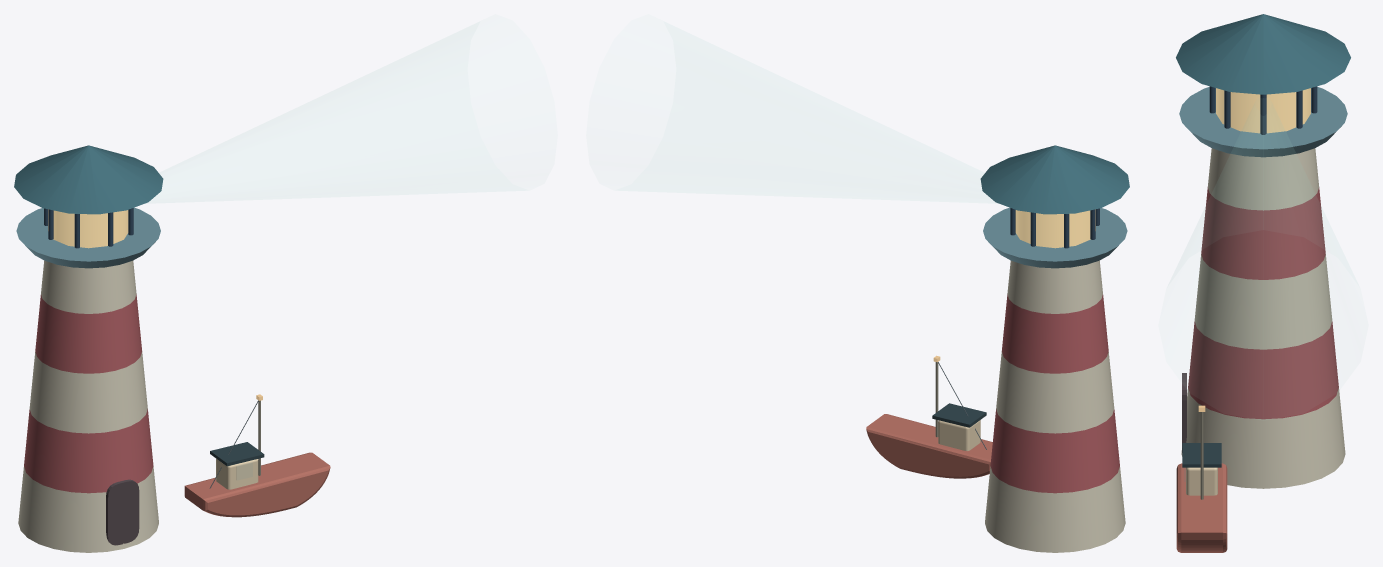
Rendered from harbour-map.glb.
The picture shows the model from 3 angles, left to right: view 1: azimuth 30°, elevation 25°; view 2: azimuth 150°, elevation 25°; view 3: azimuth 270°, elevation 25°; orthographic projection. The views are drawn at different scales.
Parts seen in each view (by area): view 1: lighthouse, fishing-boat; view 2: lighthouse, fishing-boat; view 3: lighthouse, fishing-boat.
Part boxes in pixels (bbox=[...]): lighthouse: bbox=[14, 145, 163, 552]; fishing-boat: bbox=[184, 394, 330, 517]; lighthouse: bbox=[980, 145, 1129, 552]; fishing-boat: bbox=[866, 355, 992, 478]; lighthouse: bbox=[1176, 14, 1350, 488]; fishing-boat: bbox=[1176, 405, 1227, 552].
Size of the model in its own units: 7.5 by 5.85 by 2.4.
